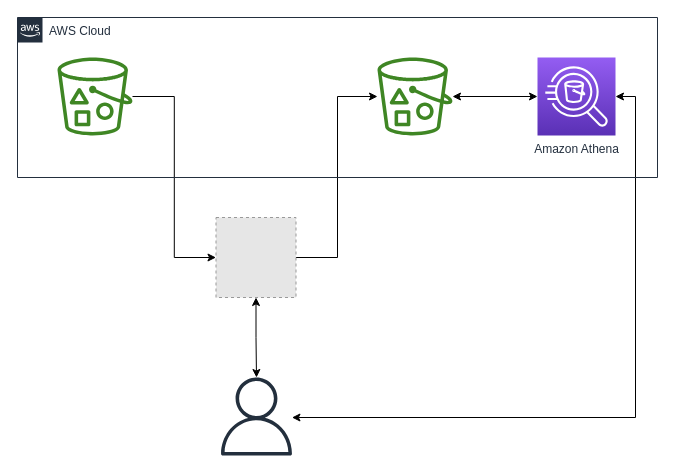
The diagram is 675 pixels wide and 473 high, and some of its shapes have lost their labels. Grey dashed boxes stand in for pictures. The box of each missing label's shape, as (x1, y1, x2, y2) in pixels:
datalake-ingested: (377, 57, 452, 135)
datalake-raw: (57, 57, 132, 135)
